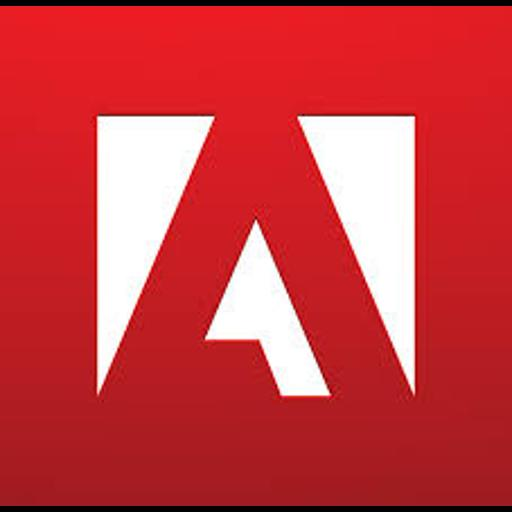Adobe: (0, 6, 512, 506)
